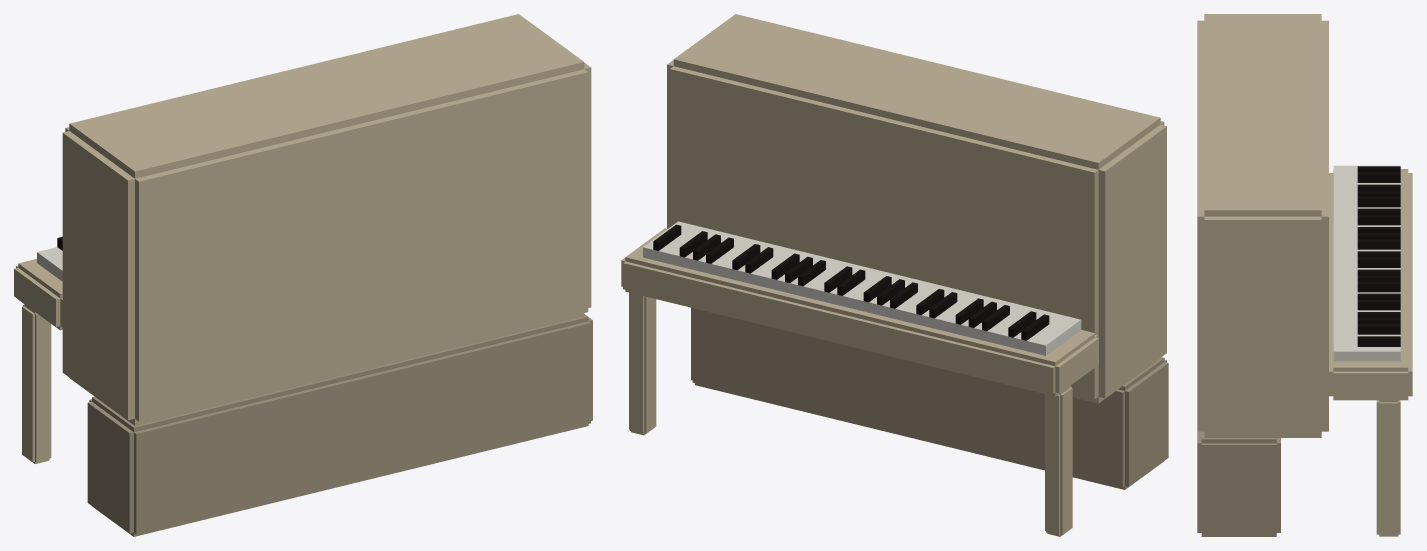
File: boreal_piano_v0.glb
3 views of the same model, side by side, from view 1: azimuth 30°, elevation 25°; view 2: azimuth 150°, elevation 25°; view 3: azimuth 270°, elevation 25° (orthographic). The views are drawn at different scales.
Parts seen in each view (by area): view 1: boreal_piano_v0; view 2: boreal_piano_v0; view 3: boreal_piano_v0.
Part boxes in pixels (x1=…): boreal_piano_v0: x1=14, y1=14, x2=592, y2=536; boreal_piano_v0: x1=621, y1=14, x2=1168, y2=536; boreal_piano_v0: x1=1197, y1=14, x2=1412, y2=536.
Bounding box in the file's own units: 2 × 1.5 × 0.9.
